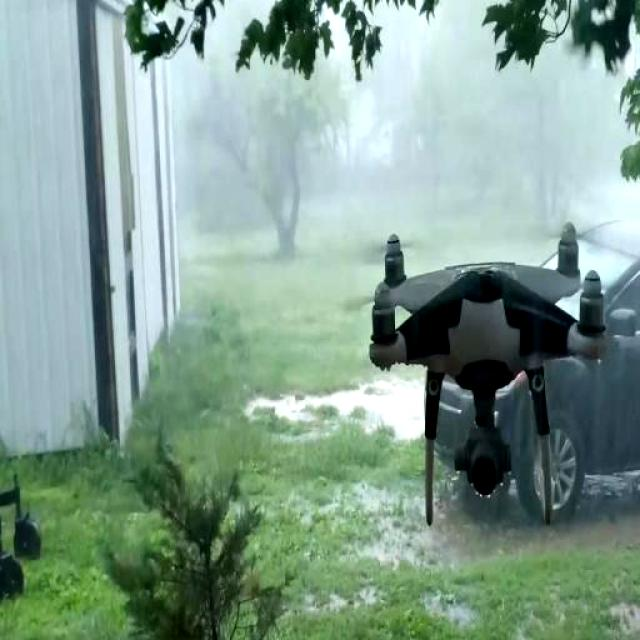bird: (358, 211, 621, 545)
